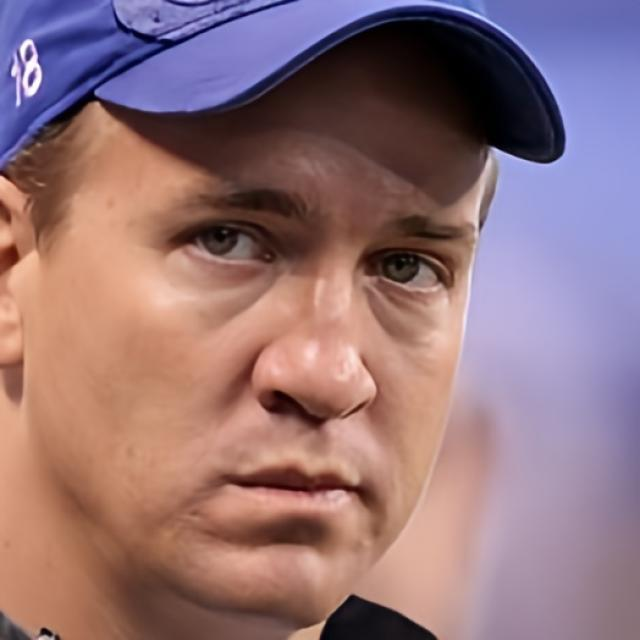sad: (24, 49, 494, 622)
